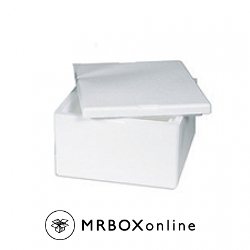Foam Box: (49, 56, 216, 193)
